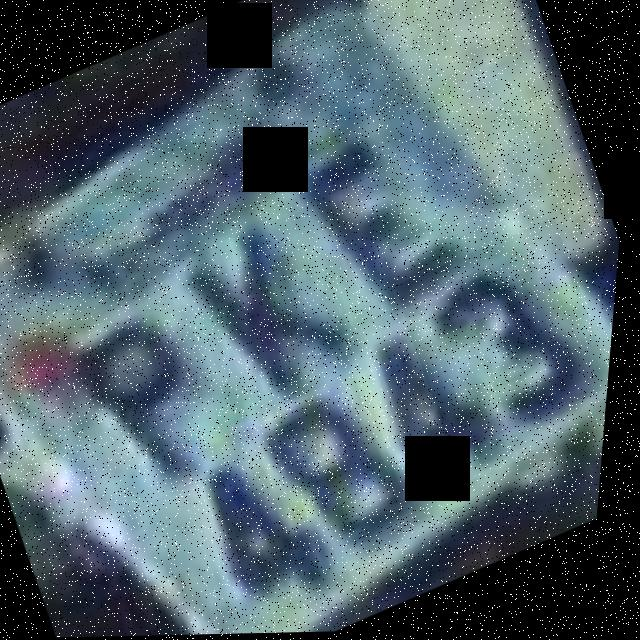3: (388, 218, 625, 458)
4: (171, 410, 379, 636), (335, 284, 539, 514)
8: (237, 345, 456, 581)
E: (287, 115, 477, 329)
K: (166, 188, 385, 428)
P: (36, 278, 253, 521)
